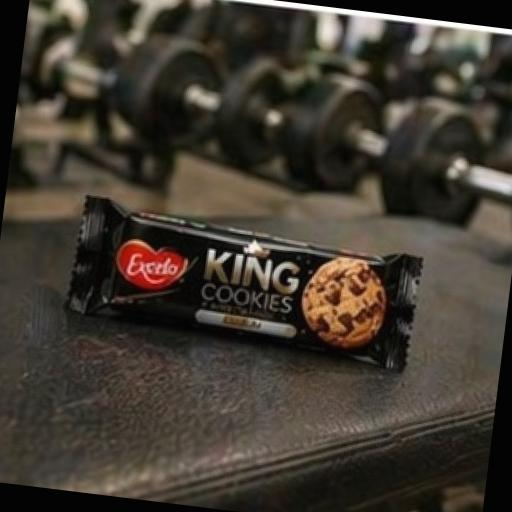king_cooking: (32, 129, 490, 437)
